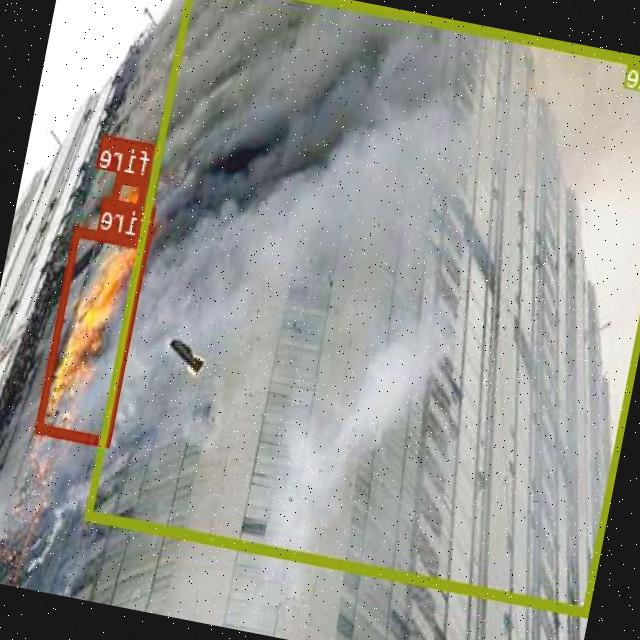fire: (36, 224, 152, 446), (107, 171, 150, 238)
smoke: (86, 0, 640, 616)
